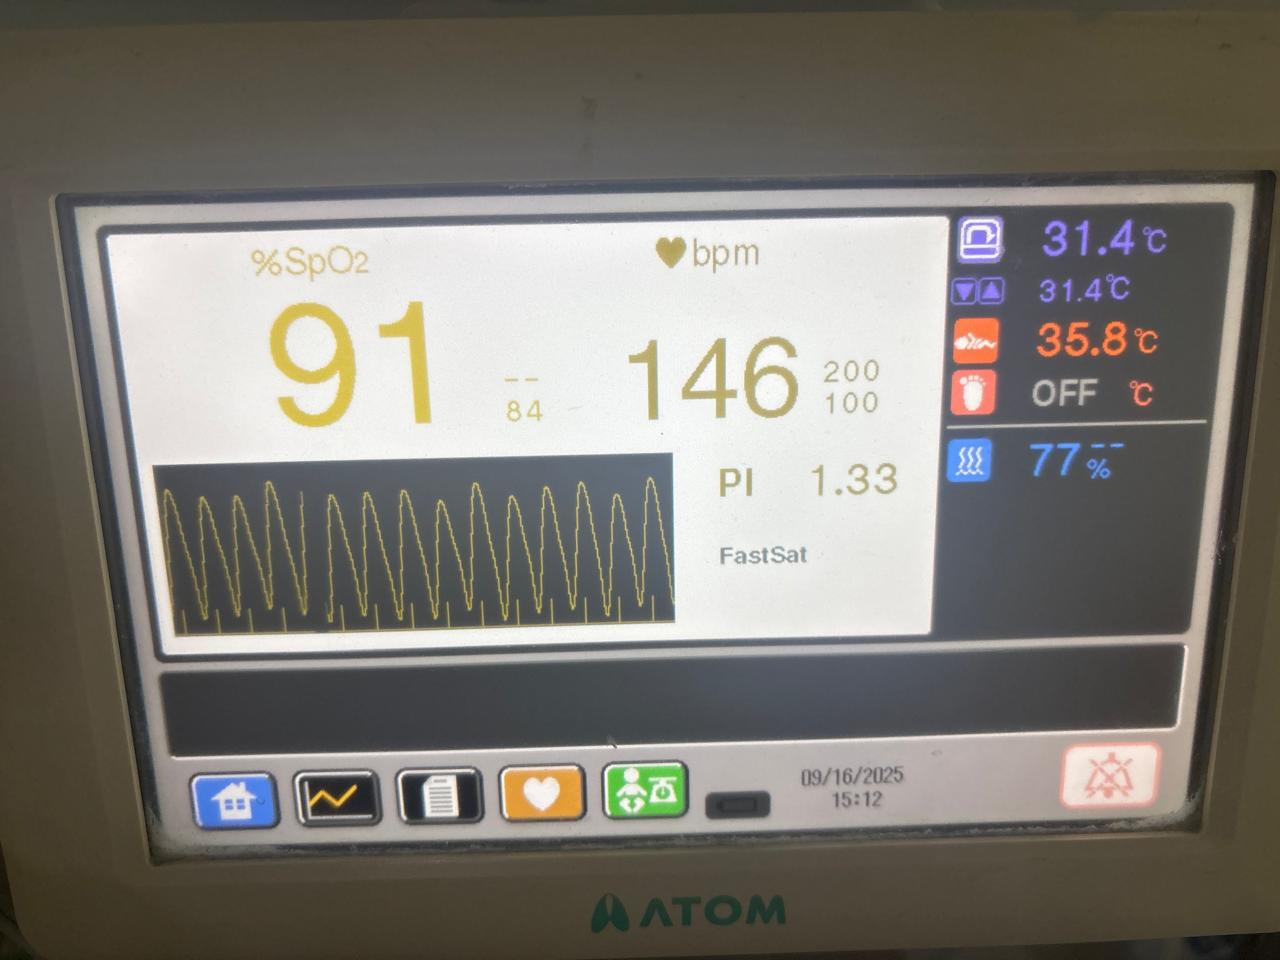heart_rate_value: (592, 314, 814, 444)
humidity_value: (1015, 435, 1085, 488)
skin_temp_value: (1021, 305, 1131, 369)
spo2_value: (223, 290, 458, 435)
